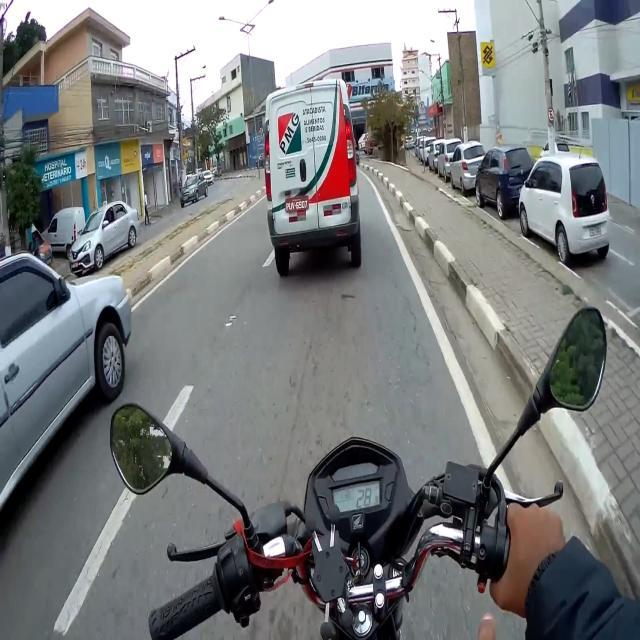Placa_mercosul_carro: (285, 193, 311, 213), (590, 222, 602, 239)
